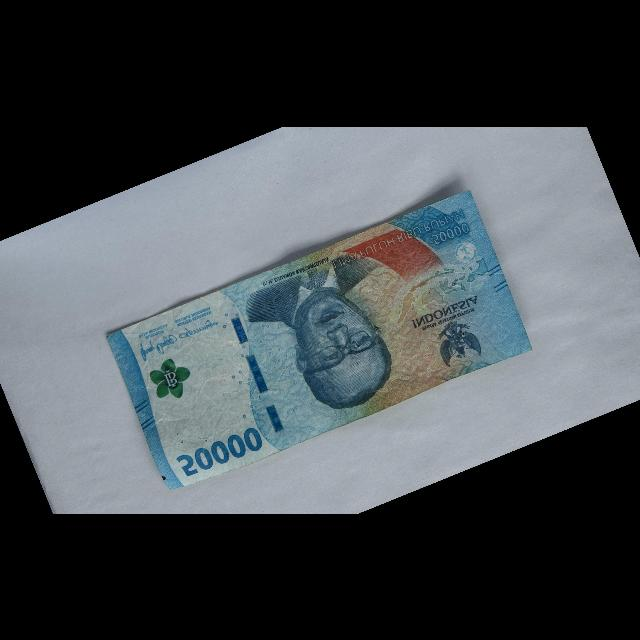Palsu-50k: (101, 183, 538, 499)
Tinta-Palsu-50k: (144, 350, 199, 407)
